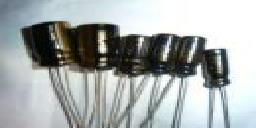Electrolytic Capacitor: (79, 20, 119, 128), (22, 15, 71, 98), (178, 27, 210, 128), (205, 46, 236, 128)
